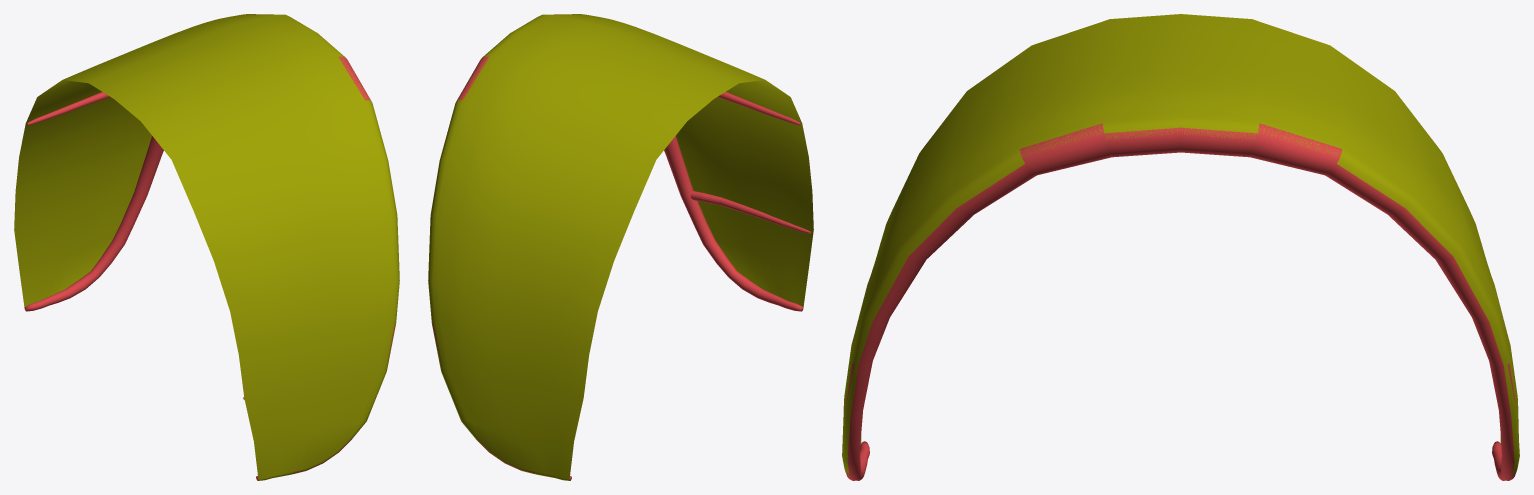
The model's file is kite_original.glb.
The picture shows the model from 3 angles, left to right: view 1: azimuth 30°, elevation 25°; view 2: azimuth 150°, elevation 25°; view 3: azimuth 270°, elevation 25°; orthographic projection. The views are drawn at different scales.
Visible parts, largest first — view 1: Spi, Centrale, lattes_middle_up2; view 2: Spi, Centrale, lattes_down, lattes_middle_up; view 3: Spi, Centrale.
Part boxes in pixels (x1=…): Spi: x1=14, y1=14, x2=399, y2=480; Centrale: x1=24, y1=14, x2=395, y2=480; lattes_middle_up2: x1=26, y1=92, x2=109, y2=125; Spi: x1=428, y1=14, x2=813, y2=480; Centrale: x1=432, y1=14, x2=803, y2=480; lattes_down: x1=690, y1=191, x2=811, y2=233; lattes_middle_up: x1=718, y1=92, x2=801, y2=125; Spi: x1=842, y1=14, x2=1519, y2=476; Centrale: x1=845, y1=123, x2=1516, y2=480.
Bounding box in the file's own units: 2.3 × 3.46 × 4.77.
